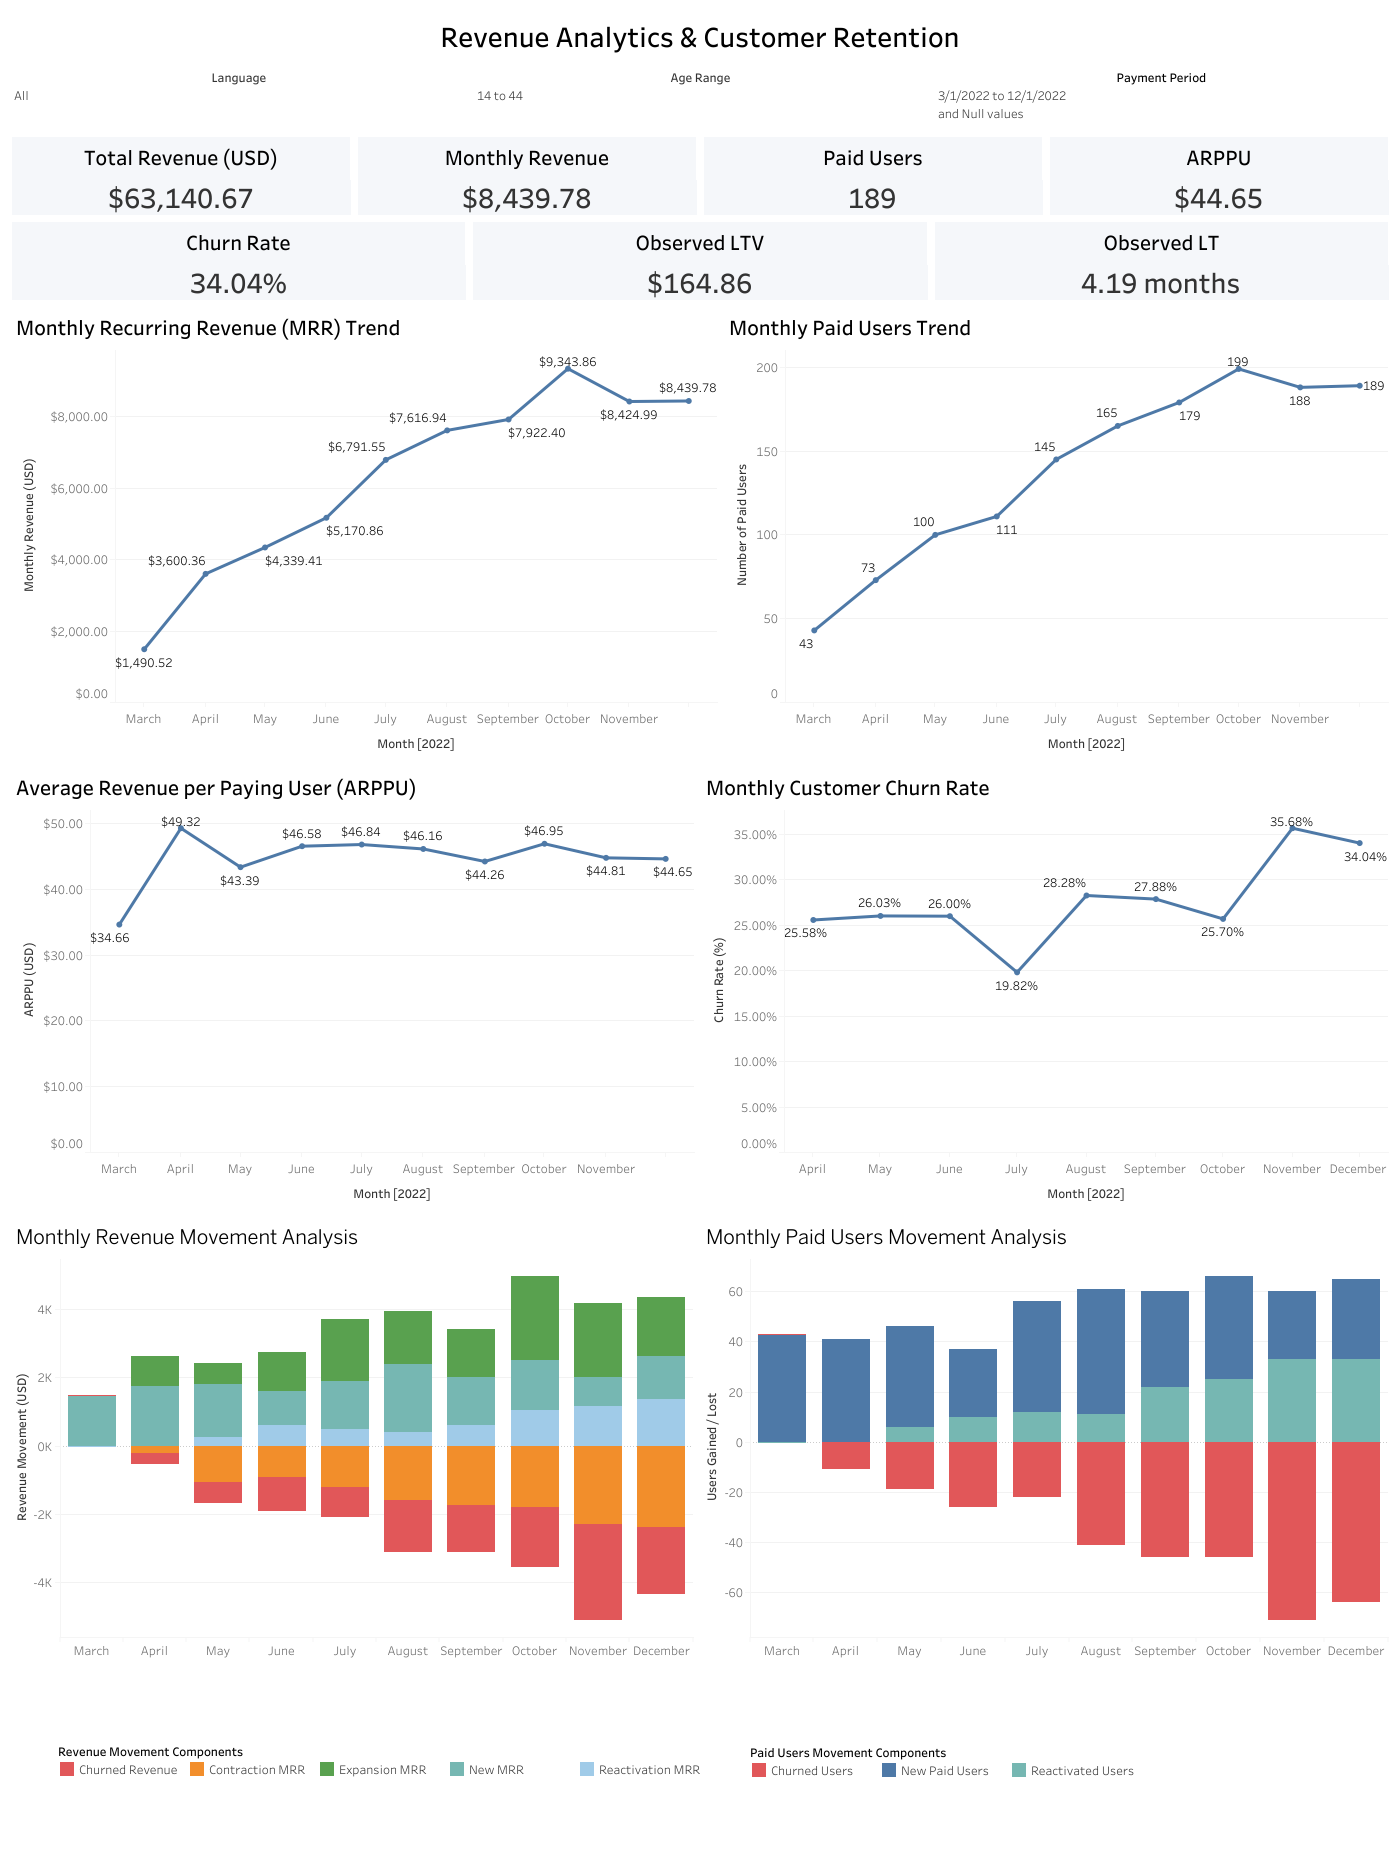

Layout of this report page (visuals, bound fields, positions):
{"tool":"tableau","page":{"name":"Revenue Analytics & Customer Retention","canvas":[1400,1850],"ordinal":0},"visuals":[{"type":"title","box":[8,8,1384,55]},{"type":"filter","title":"Monthly MRR Trend","param":"[federated.0f964q60onn2li1e6pkob0jlwet2].[none:language:nk]","box":[8,63,462,52]},{"type":"filter","title":"Monthly MRR Trend","param":"[federated.0f964q60onn2li1e6pkob0jlwet2].[none:age:qk]","box":[470,63,461,52]},{"type":"filter","title":"Monthly MRR Trend","param":"[federated.0f964q60onn2li1e6pkob0jlwet2].[none:payment_month:qk]","box":[931,63,461,52]},{"type":"worksheet","title":"KPI - Total Revenue","mark":"Text","box":[8,115,346,85]},{"type":"worksheet","title":"KPI - Monthly Revenue","mark":"Text","box":[354,115,346,85]},{"type":"worksheet","title":"KPI - Paid Users","mark":"Text","box":[700,115,346,85]},{"type":"worksheet","title":"KPI - ARPPU","mark":"Text","box":[1046,115,346,85]},{"type":"worksheet","title":"KPI - Churn Rate","mark":"Text","box":[8,200,461.3,85]},{"type":"worksheet","title":"KPI - Observed LTV","mark":"Text","box":[469.3,200,461.3,85]},{"type":"worksheet","title":"KPI - Observed LT","mark":"Text","box":[930.6,200,461.3,85]},{"type":"worksheet","title":"Monthly MRR Trend","mark":"Line","rows":["mrr"],"cols":["payment_month"],"box":[8,285,713.5,460]},{"type":"worksheet","title":"Monthly Paid Users Trend","mark":"Line","rows":["paid_users"],"cols":["payment_month"],"box":[721.5,285,670.5,460]},{"type":"worksheet","title":"ARPPU Trend","mark":"Line","rows":["Calculation_1677364229885952"],"cols":["payment_month"],"box":[8,745,690,450]},{"type":"worksheet","title":"Customer Churn Rate","mark":"Line","rows":["Calculation_1677364234801153"],"cols":["payment_month"],"box":[698,745,694,450]},{"type":"worksheet","title":"Monthly Revenue Movement","mark":"Bar","cols":["payment_month"],"box":[8,1195,690,450]},{"type":"worksheet","title":"Monthly Paid Users Movement","mark":"Bar","cols":["payment_month"],"box":[698,1195,694,450]},{"type":"legend","title":"Monthly Revenue Movement","param":"[federated.0f964q60onn2li1e6pkob0jlwet2].[:Measure Names]","box":[57,1740.1,667,75.1]},{"type":"legend","title":"Monthly Paid Users Movement","param":"[federated.0f964q60onn2li1e6pkob0jlwet2].[:Measure Names]","box":[749,1741.1,514,75.1]}]}

Visuals, with their boxes in screenshot pixels (x1, y1, x2, y2), scaled from the page's 1400x1850 canvas onto the 1399x1849 screenshot:
title: [left=8, top=8, right=1391, bottom=63]
"Monthly MRR Trend" filter: [left=8, top=63, right=470, bottom=115]
"Monthly MRR Trend" filter: [left=470, top=63, right=930, bottom=115]
"Monthly MRR Trend" filter: [left=930, top=63, right=1391, bottom=115]
"KPI - Total Revenue" worksheet (Text marks): [left=8, top=115, right=354, bottom=200]
"KPI - Monthly Revenue" worksheet (Text marks): [left=354, top=115, right=700, bottom=200]
"KPI - Paid Users" worksheet (Text marks): [left=700, top=115, right=1045, bottom=200]
"KPI - ARPPU" worksheet (Text marks): [left=1045, top=115, right=1391, bottom=200]
"KPI - Churn Rate" worksheet (Text marks): [left=8, top=200, right=469, bottom=285]
"KPI - Observed LTV" worksheet (Text marks): [left=469, top=200, right=930, bottom=285]
"KPI - Observed LT" worksheet (Text marks): [left=930, top=200, right=1391, bottom=285]
"Monthly MRR Trend" worksheet (Line marks): [left=8, top=285, right=721, bottom=745]
"Monthly Paid Users Trend" worksheet (Line marks): [left=721, top=285, right=1391, bottom=745]
"ARPPU Trend" worksheet (Line marks): [left=8, top=745, right=698, bottom=1194]
"Customer Churn Rate" worksheet (Line marks): [left=698, top=745, right=1391, bottom=1194]
"Monthly Revenue Movement" worksheet (Bar marks): [left=8, top=1194, right=698, bottom=1644]
"Monthly Paid Users Movement" worksheet (Bar marks): [left=698, top=1194, right=1391, bottom=1644]
"Monthly Revenue Movement" legend: [left=57, top=1739, right=723, bottom=1814]
"Monthly Paid Users Movement" legend: [left=748, top=1740, right=1262, bottom=1815]
